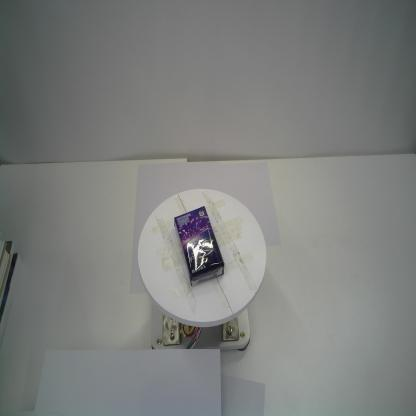Gum: (173, 204, 225, 289)
